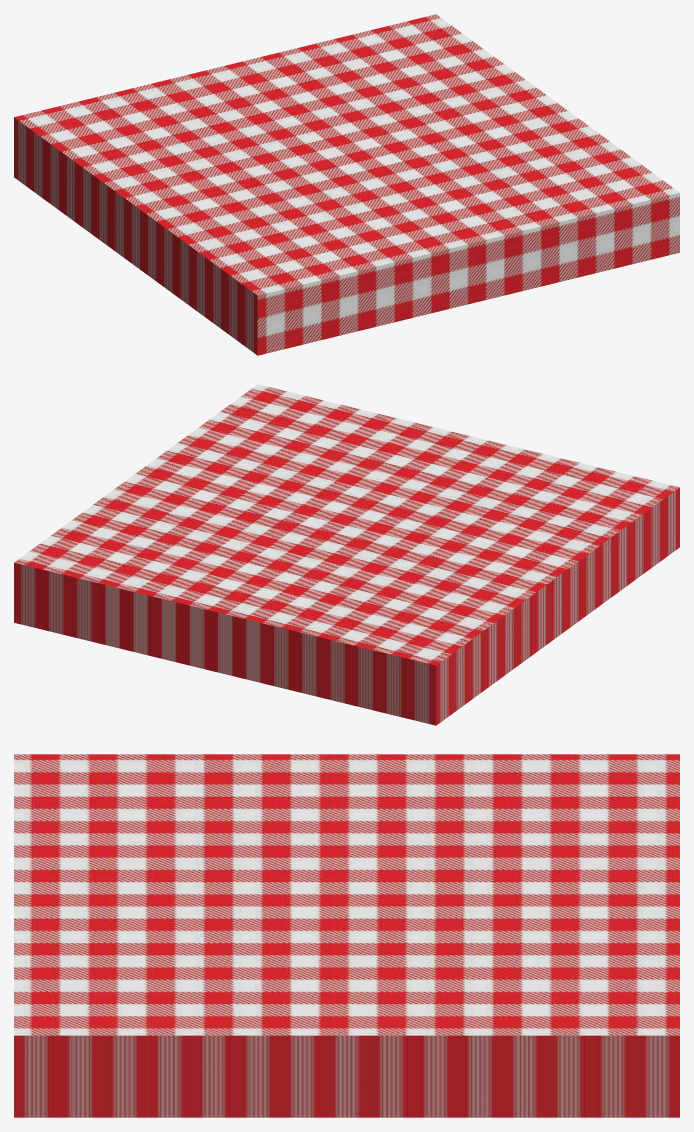
Rendered from mesamantel.fbx.
The picture shows the model from 3 angles, top to bottom: view 1: azimuth 30°, elevation 25°; view 2: azimuth 150°, elevation 25°; view 3: azimuth 270°, elevation 25°; orthographic projection. The views are drawn at different scales.
Visible parts, largest first — view 1: mantel; view 2: mantel; view 3: mantel.
Part boxes in pixels (x1,y1,x2,y2): mantel: [14, 14, 679, 355]; mantel: [14, 384, 679, 725]; mantel: [14, 754, 679, 1117].
Bounding box in the file's own units: 907 × 123 × 907.
